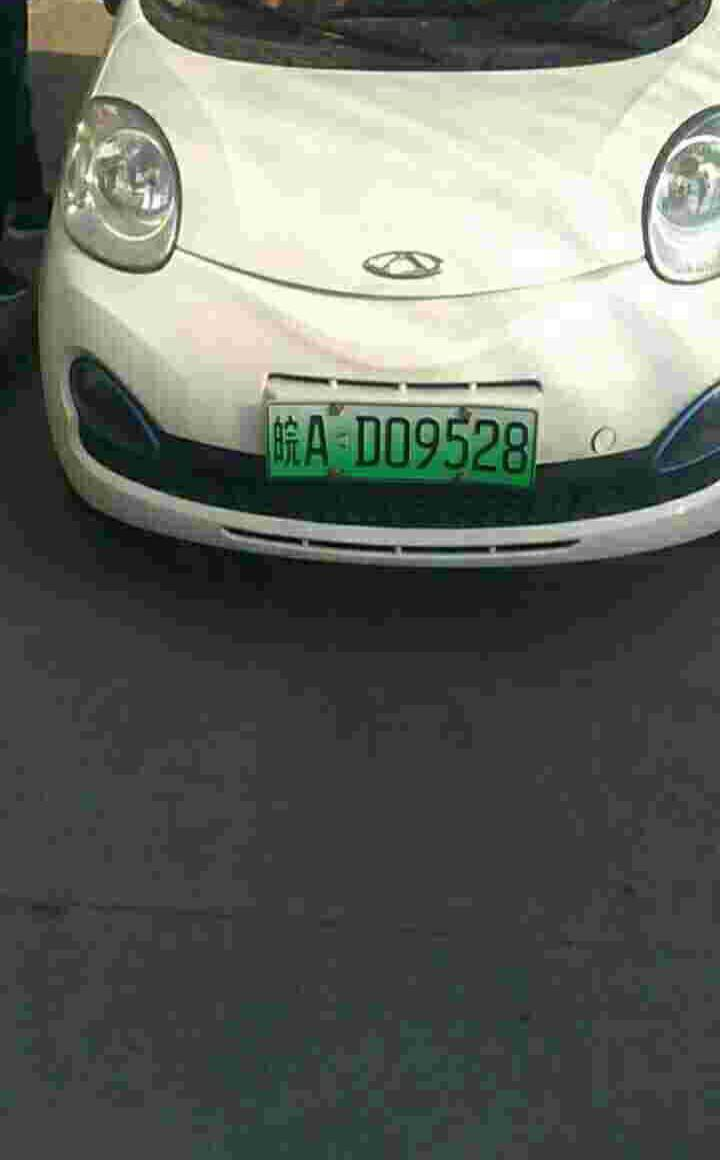car_id: (267, 402, 537, 486)
